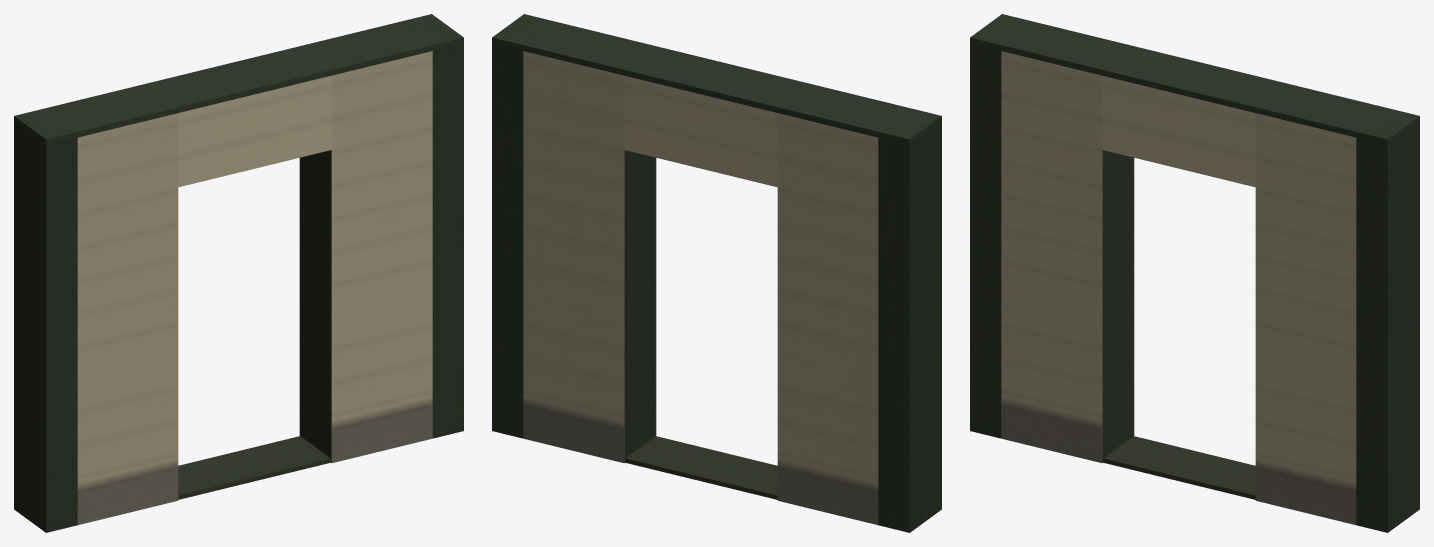
Rendered from house_01_wall_doorway.glb.
3 renders of one model, left to right at view 1: azimuth 30°, elevation 25°; view 2: azimuth 150°, elevation 25°; view 3: azimuth 330°, elevation 25°, orthographic.
Visible parts, largest first — view 1: outdoor_house_01_wall_doorway; view 2: outdoor_house_01_wall_doorway; view 3: outdoor_house_01_wall_doorway.
Boxes of the visible parts, x1,y1,x2,y2 form: outdoor_house_01_wall_doorway: (14,14,463,532); outdoor_house_01_wall_doorway: (492,14,941,532); outdoor_house_01_wall_doorway: (970,14,1419,532).
Bounding box in the file's own units: 3 × 2.7 × 0.4.
Materials: 1 (1 with a texture image).
